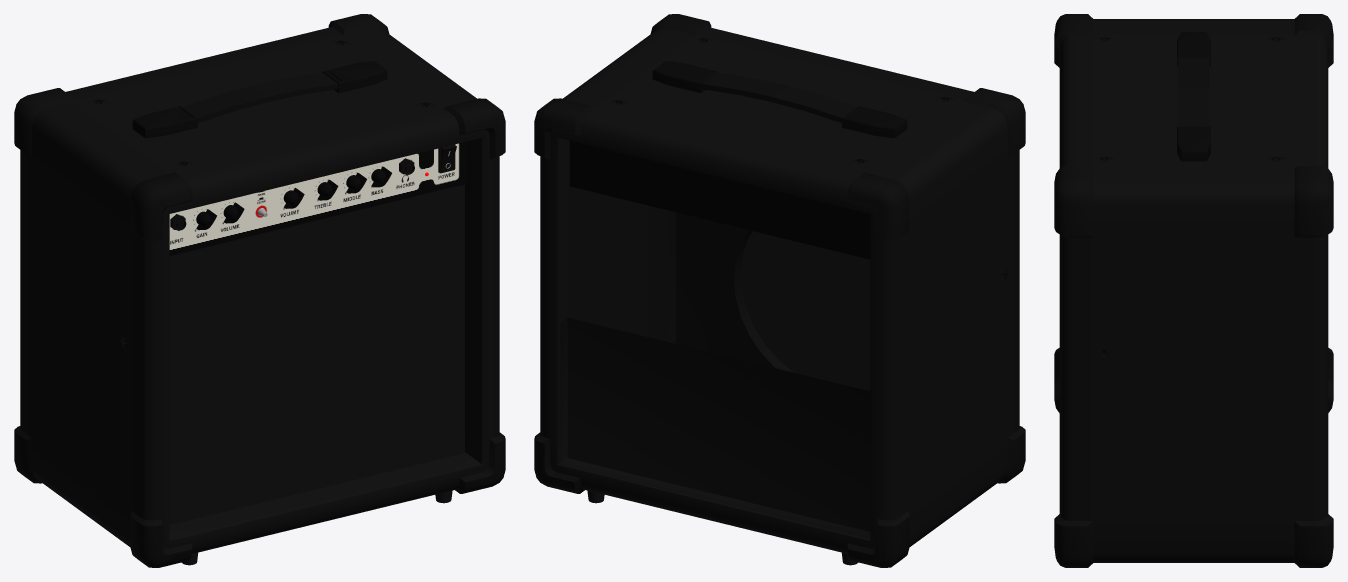
File: guitar-amp.glb
3 renders of one model, left to right at view 1: azimuth 30°, elevation 25°; view 2: azimuth 150°, elevation 25°; view 3: azimuth 270°, elevation 25°, orthographic.
Parts seen in each view (by area): view 1: Object_3, Object_9, Object_2; view 2: Object_3, Object_9, Object_2; view 3: Object_3.
Boxes of the visible parts, x1,y1,x2,y2 form: Object_3: (14, 14, 505, 567); Object_9: (169, 184, 464, 524); Object_2: (169, 142, 466, 255); Object_3: (534, 14, 1025, 567); Object_9: (740, 231, 870, 389); Object_2: (569, 141, 870, 259); Object_3: (1054, 14, 1333, 567).
Size of the model in its own units: 0.3277 by 0.3433 by 0.2149.
Materials: 4 (4 with a texture image).
